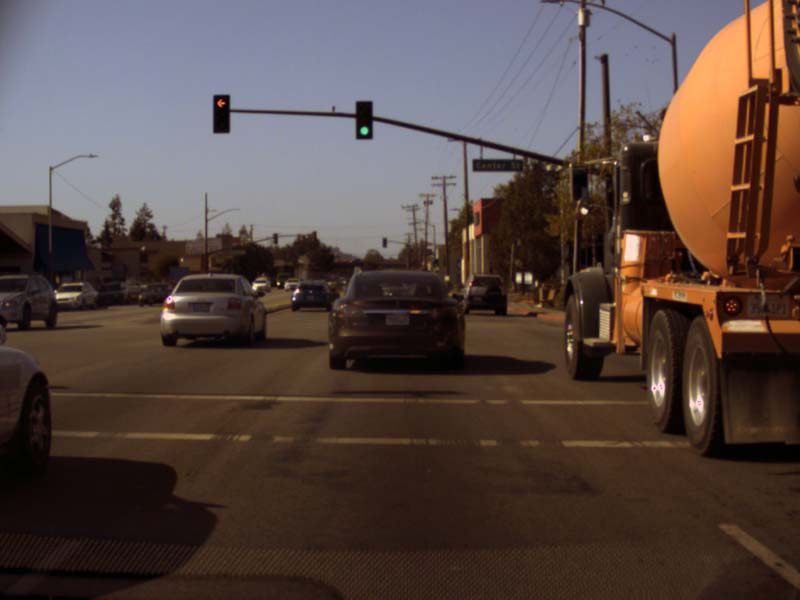Green: (356, 101, 373, 138)
Red: (213, 95, 227, 133)
